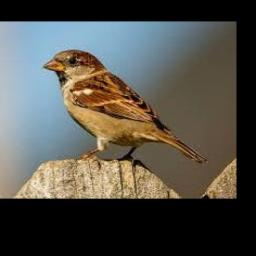Sparrow: (42, 50, 207, 163)
